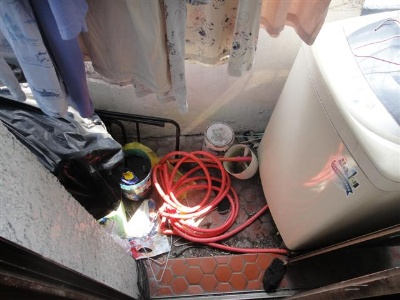bowl: (223, 144, 258, 180)
bucket: (119, 148, 153, 201), (201, 122, 234, 157)
plastic_bag: (1, 112, 116, 162)
washing_machine: (260, 10, 400, 253)
